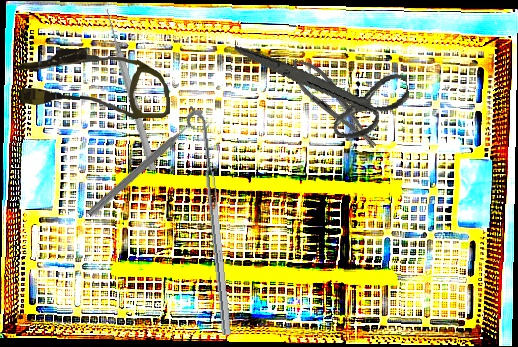Cannula: (17, 45, 171, 123)
Fixation Ring: (83, 105, 215, 228)
Iris Scissors: (234, 13, 416, 158)
Needle Holder: (282, 50, 386, 158)
Pusher: (101, 7, 159, 172)
Spatula Surgical: (189, 103, 232, 337)
